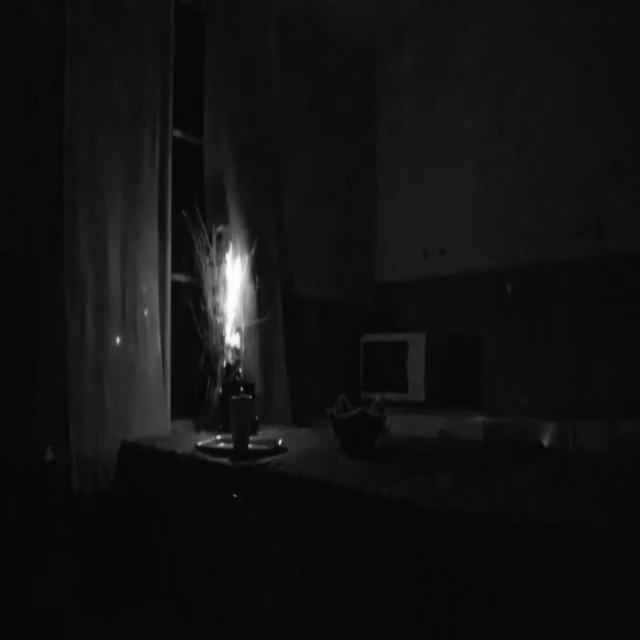smoke: (219, 230, 260, 360)
